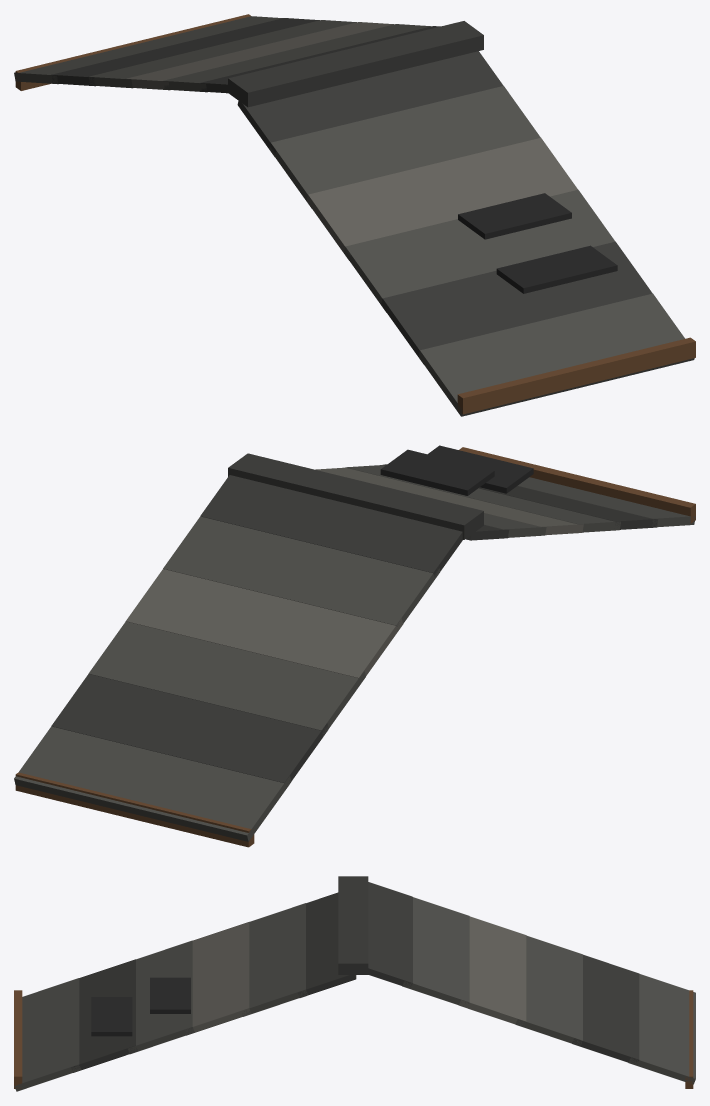
File: SM_Bld_Roof_01.glb
3 renders of one model, top to bottom at view 1: azimuth 30°, elevation 25°; view 2: azimuth 150°, elevation 25°; view 3: azimuth 270°, elevation 25°, orthographic. The views are drawn at different scales.
Visible parts, largest first — view 1: SM_Bld_Roof_01; view 2: SM_Bld_Roof_01; view 3: SM_Bld_Roof_01.
Part boxes in pixels (bbox=[...]): SM_Bld_Roof_01: bbox=[14, 14, 695, 416]; SM_Bld_Roof_01: bbox=[14, 445, 695, 847]; SM_Bld_Roof_01: bbox=[14, 876, 695, 1091].
Size of the model in its own units: 3.04 by 2.08 by 10.01.
Materials: 1 (1 with a texture image).
